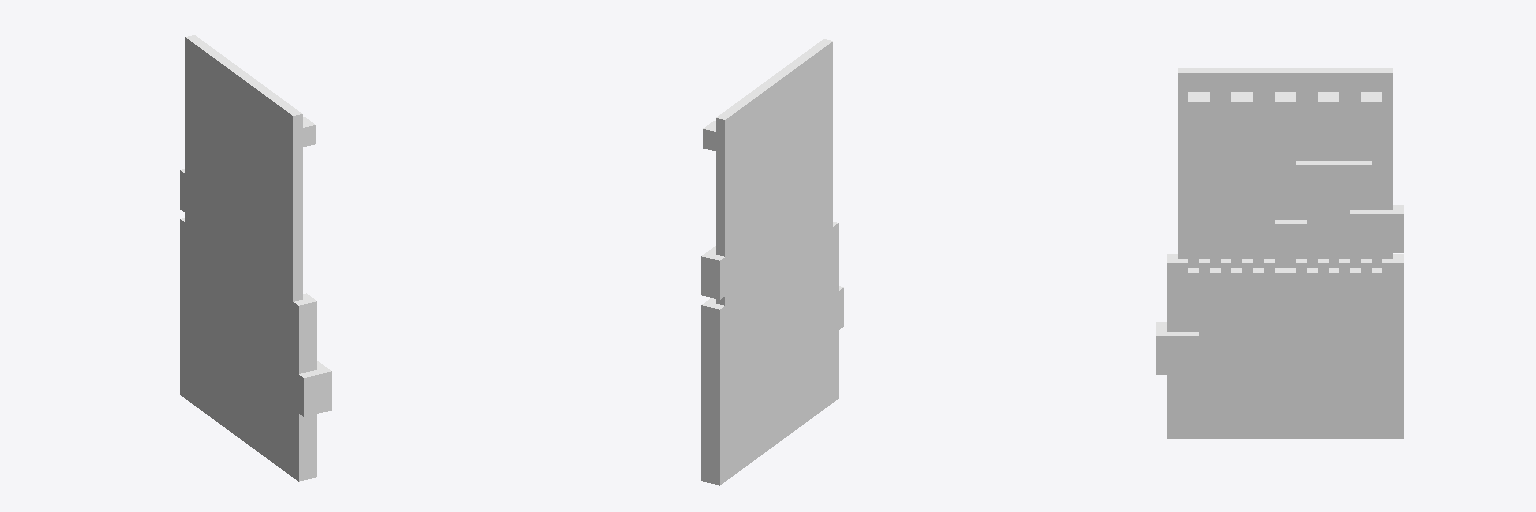
File: SmallBuilding03-2.obj
The picture shows the model from 3 angles: view 1: azimuth 30°, elevation 25°; view 2: azimuth 150°, elevation 25°; view 3: azimuth 270°, elevation 25°; orthographic projection.
Visible parts, largest first — view 1: object 1; view 2: object 1; view 3: object 1.
Boxes of the visible parts, x1=… form: object 1: x1=180, y1=35, x2=331, y2=481; object 1: x1=701, y1=39, x2=843, y2=485; object 1: x1=1156, y1=68, x2=1403, y2=438.
Size of the model in its own units: 0.3 by 3.7 by 2.3.